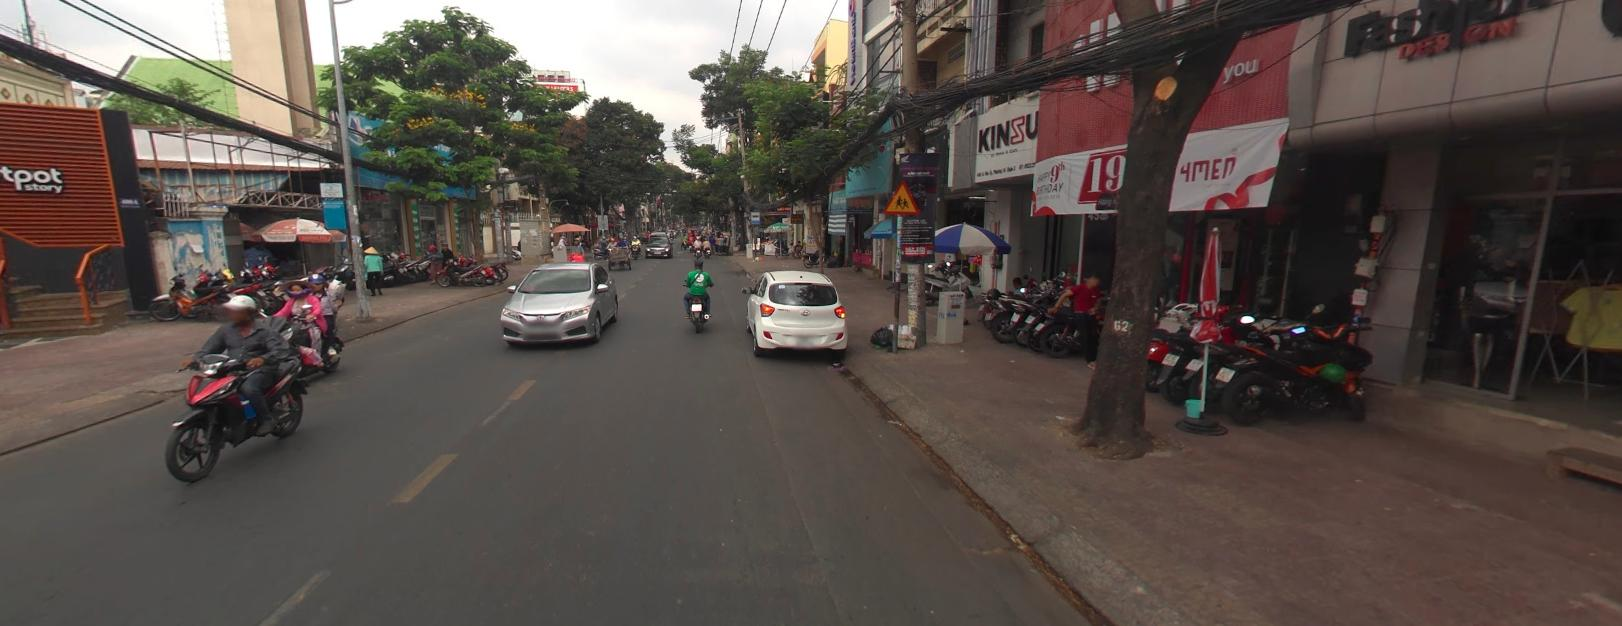Nguy hiem: (882, 178, 922, 213), (881, 178, 920, 213)
